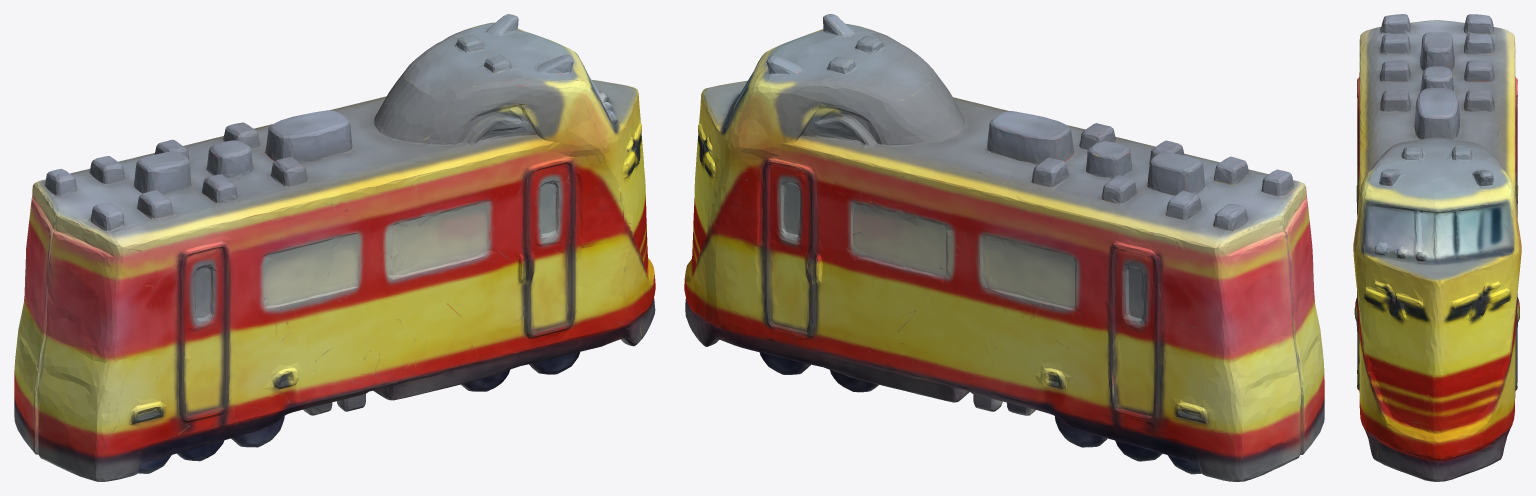
The model's file is AnimePistol_Textured_10401.glb.
3 renders of one model, left to right at view 1: azimuth 30°, elevation 25°; view 2: azimuth 150°, elevation 25°; view 3: azimuth 270°, elevation 25°, orthographic. The views are drawn at different scales.
Visible parts, largest first — view 1: world; view 2: world; view 3: world.
Part boxes in pixels (bbox=[...]): world: bbox=[14, 14, 655, 481]; world: bbox=[684, 14, 1324, 481]; world: bbox=[1353, 14, 1521, 481].
Bounding box in the file's own units: 1 × 0.486 × 0.2709.
1 material, 1 textured.
